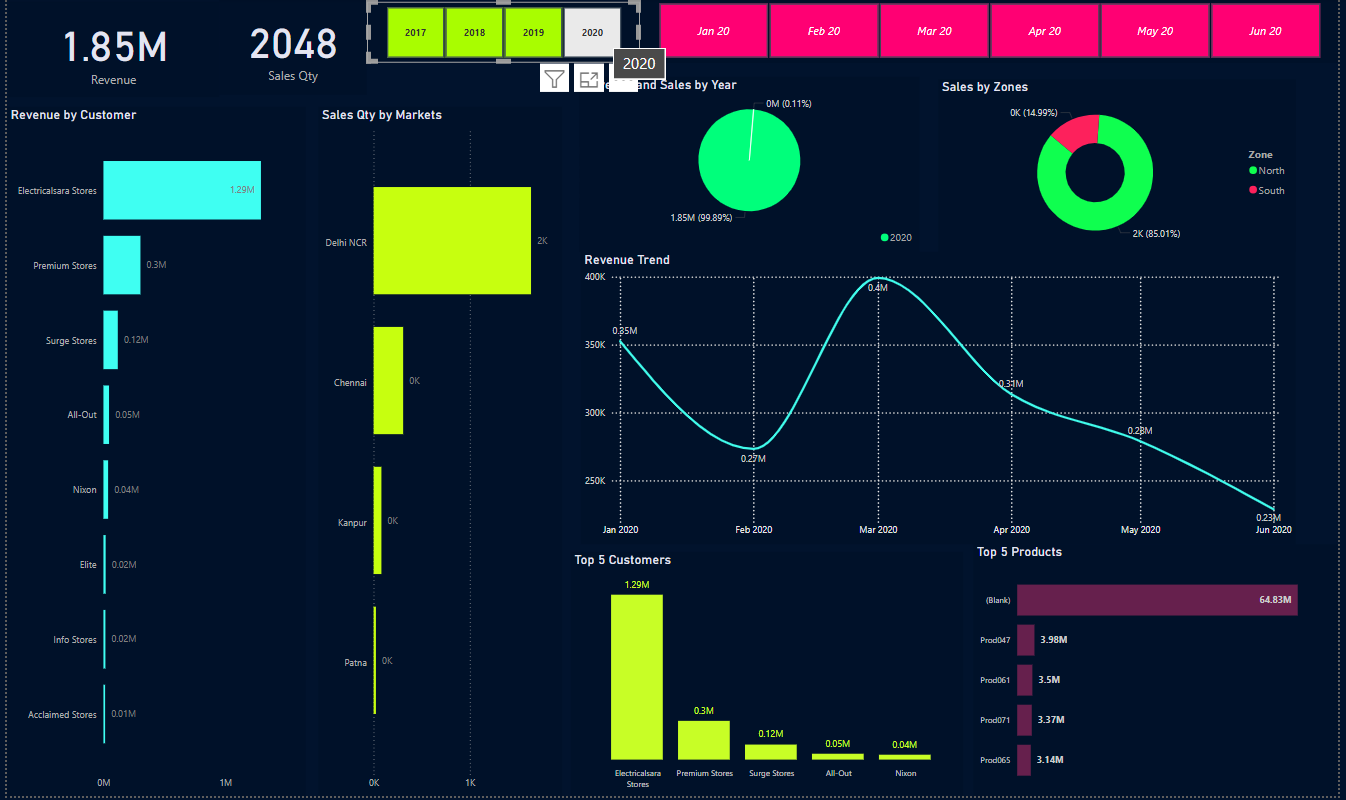

The dashboard page shown, as its layout file describes it:
{"tool":"powerbi","page":{"name":"Dashboard","canvas":[1750,1050],"ordinal":0},"visuals":[{"type":"card","fields":{"Values":["BaseMeasures.Revenue"]},"box":[1.6,4.8,277.5,125.8],"z":0},{"type":"card","fields":{"Values":["BaseMeasures.Sales Qty"]},"box":[279.1,0,193.6,127.5],"z":1000},{"type":"barChart","title":"Revenue by Customer","fields":{"Category":["sales customers.custmer_name"],"Y":["BaseMeasures.Revenue"]},"box":[0,143,392.8,907.3],"z":2000},{"type":"barChart","title":"Sales Qty by Markets","fields":{"Category":["sales markets.markets_name"],"Y":["BaseMeasures.Sales Qty"]},"box":[409.3,143,320.5,907.3],"z":3000},{"type":"donutChart","title":"Sales by Zones","fields":{"Y":["BaseMeasures.Sales Qty"],"Category":["sales markets.zone"]},"box":[1224.6,106.8,470.1,226.8],"z":4000},{"type":"slicer","fields":{"Values":["sales date.year"]},"box":[473.4,4.9,358.3,80.5],"z":5000},{"type":"slicer","title":"Months","fields":{"Values":["sales date.cy_date"]},"box":[831.7,0,918.8,85.5],"z":6000},{"type":"columnChart","title":"Top 5 Customers","fields":{"Category":["sales customers.custmer_name"],"Y":["BaseMeasures.Revenue"]},"box":[741.3,728.2,516.1,320.5],"z":7000},{"type":"pieChart","title":"Revenue and Sales by Year","fields":{"Category":["sales date.year"],"Y":["BaseMeasures.Revenue","BaseMeasures.Sales Qty"]},"box":[752.8,103.6,447.1,230.1],"z":8000},{"type":"barChart","title":"Top 5 Products","fields":{"Y":["BaseMeasures.Revenue"],"Category":["sales products.product_code"]},"box":[1270.6,718.3,480,332],"z":9000},{"type":"lineChart","title":"Revenue Trend","fields":{"Category":["sales date.cy_date"],"Y":["BaseMeasures.Revenue"]},"box":[754.5,333.7,940.2,384.6],"z":10000}]}

Visuals, with their boxes in screenshot pixels (x1, y1, x2, y2), scaled from the page's 1750x1050 canvas onto the 1346x800 screenshot:
card - BaseMeasures.Revenue: x1=1, y1=4, x2=215, y2=100
card - BaseMeasures.Sales Qty: x1=215, y1=0, x2=364, y2=97
"Revenue by Customer" barChart: x1=0, y1=109, x2=302, y2=799
"Sales Qty by Markets" barChart: x1=315, y1=109, x2=561, y2=799
"Sales by Zones" donutChart: x1=942, y1=81, x2=1303, y2=254
slicer - sales date.year: x1=364, y1=4, x2=640, y2=65
"Months" slicer: x1=640, y1=0, x2=1345, y2=65
"Top 5 Customers" columnChart: x1=570, y1=555, x2=967, y2=799
"Revenue and Sales by Year" pieChart: x1=579, y1=79, x2=923, y2=254
"Top 5 Products" barChart: x1=977, y1=547, x2=1345, y2=799
"Revenue Trend" lineChart: x1=580, y1=254, x2=1303, y2=547
